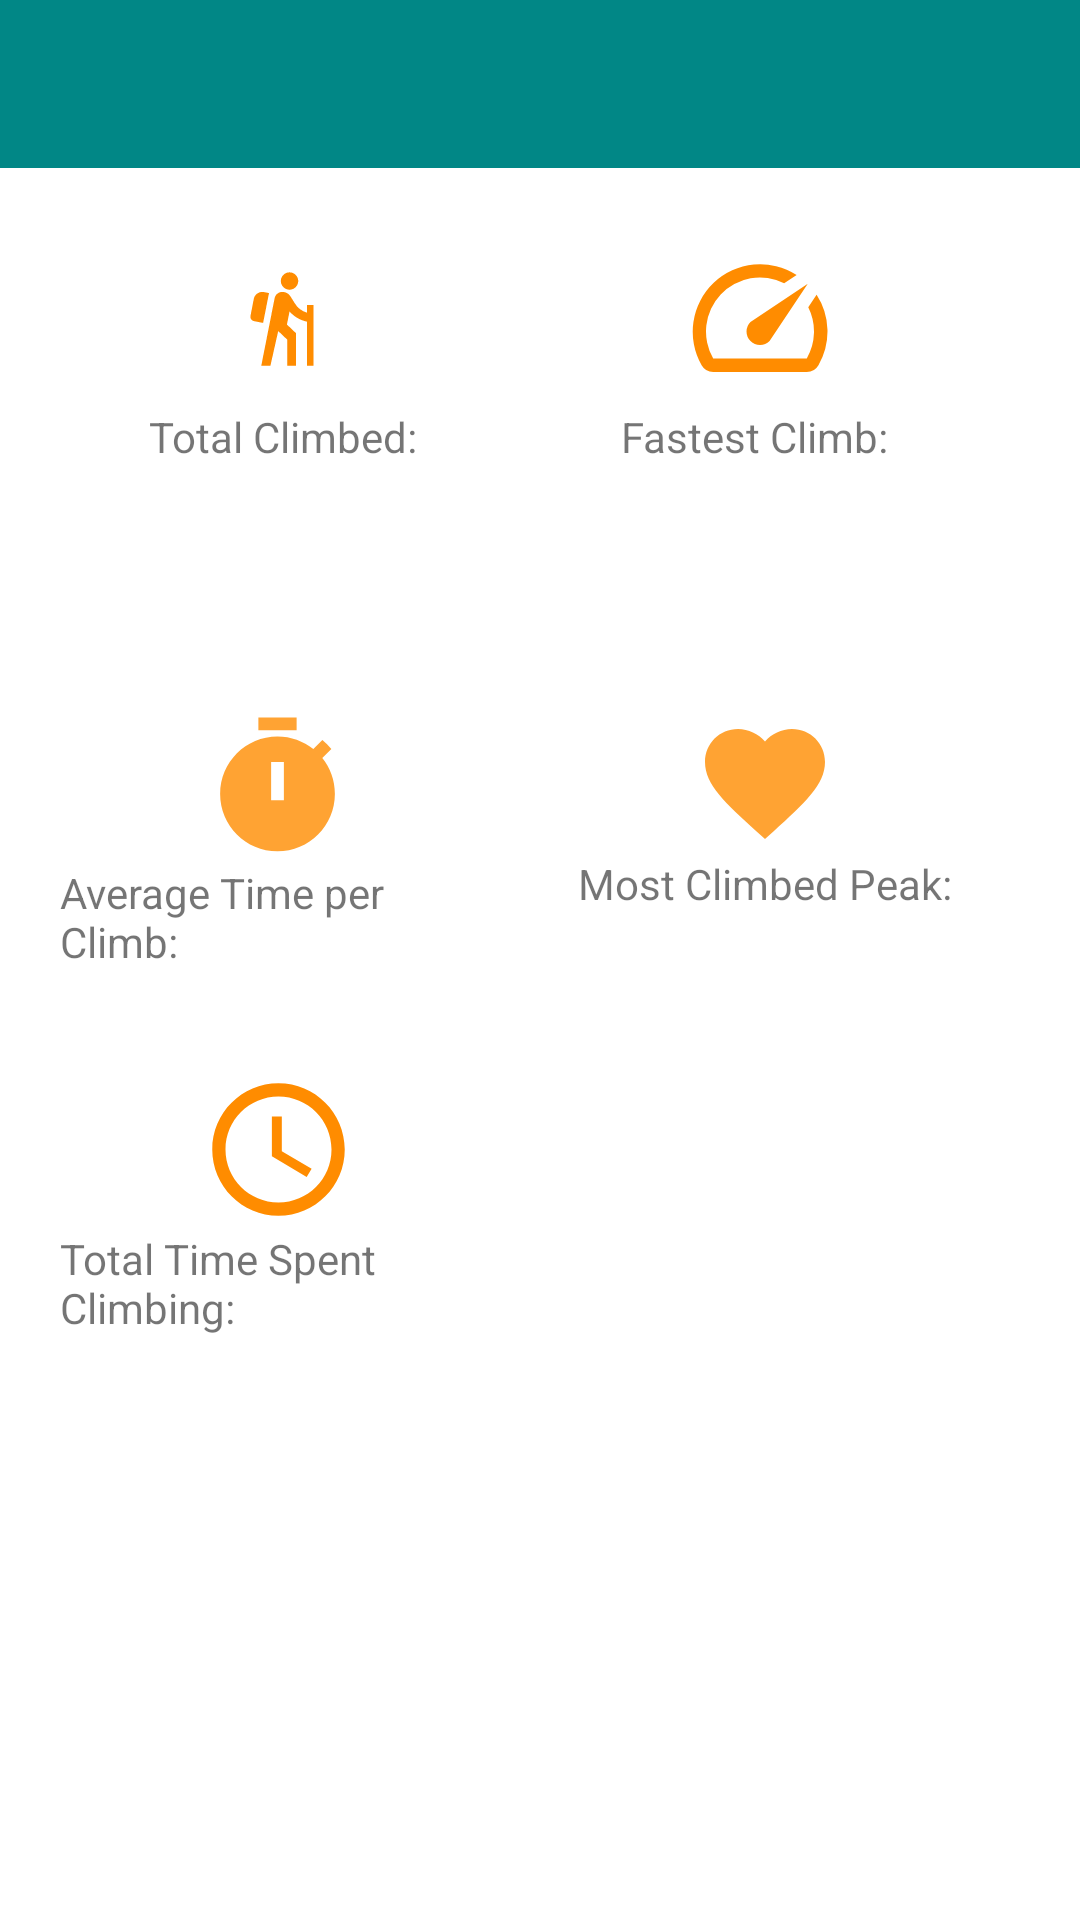

Point at icon controls on the screen. Image size 1080*1920, points as [x,y].
access time: [278,1149]
favourite: [765,784]
hiker: [282,319]
